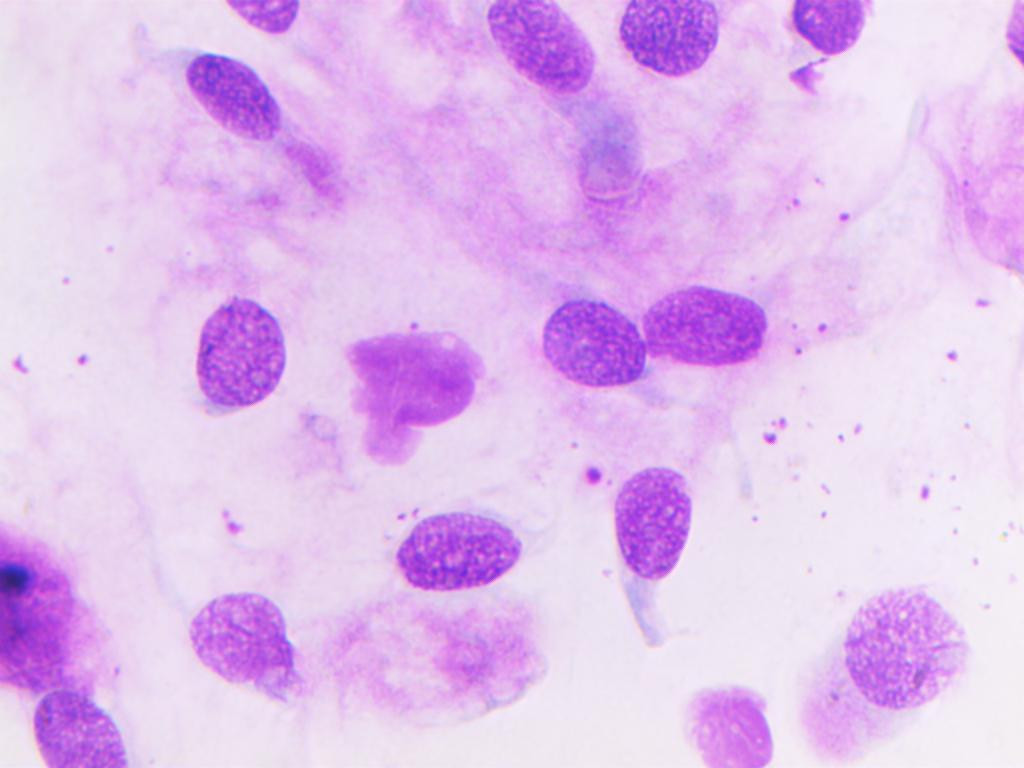artifact: (341, 322, 485, 472), (682, 675, 778, 768)
epithelial: (114, 47, 342, 224), (790, 558, 975, 765), (472, 1, 617, 215), (607, 454, 720, 655), (129, 284, 297, 418), (642, 264, 769, 396), (517, 284, 644, 416), (180, 592, 323, 704), (386, 508, 581, 586), (14, 688, 153, 768), (772, 0, 884, 94), (610, 0, 731, 83), (208, 0, 327, 38)
